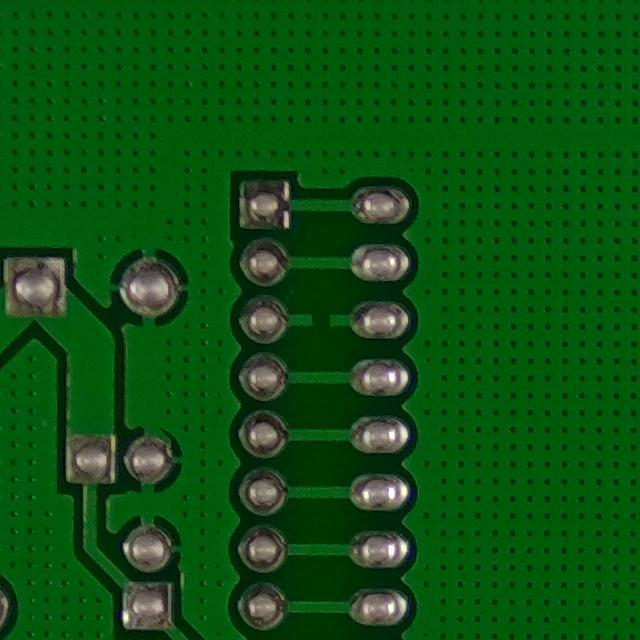open_circuit: (301, 305, 340, 336)
